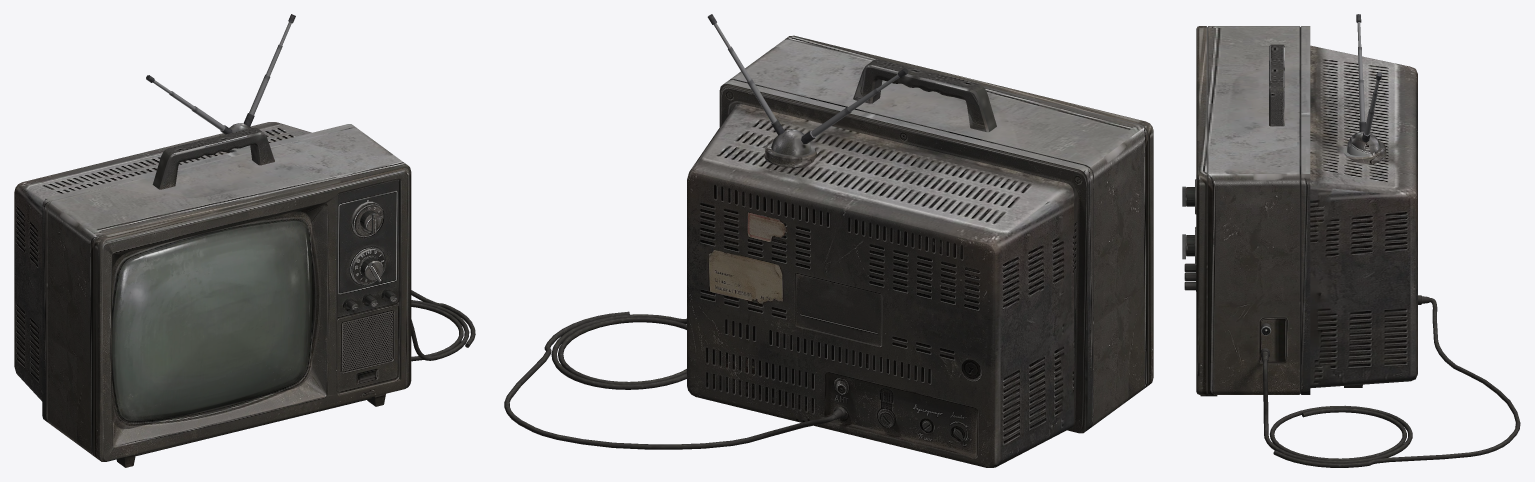
Rendered from crt-tv-1k.glb.
3 renders of one model, left to right at view 1: azimuth 30°, elevation 25°; view 2: azimuth 150°, elevation 25°; view 3: azimuth 270°, elevation 25°, orthographic. The views are drawn at different scales.
Visible parts, largest first — view 1: CRT_TV; view 2: CRT_TV; view 3: CRT_TV.
Part boxes in pixels (box(x1,y1,x2,y2)): CRT_TV: box(14, 14, 475, 467); CRT_TV: box(504, 14, 1153, 467); CRT_TV: box(1182, 14, 1520, 467).
Bounding box in the file's own units: 0.5579 × 0.3978 × 0.3769.
Materials: 2 (2 with a texture image).
